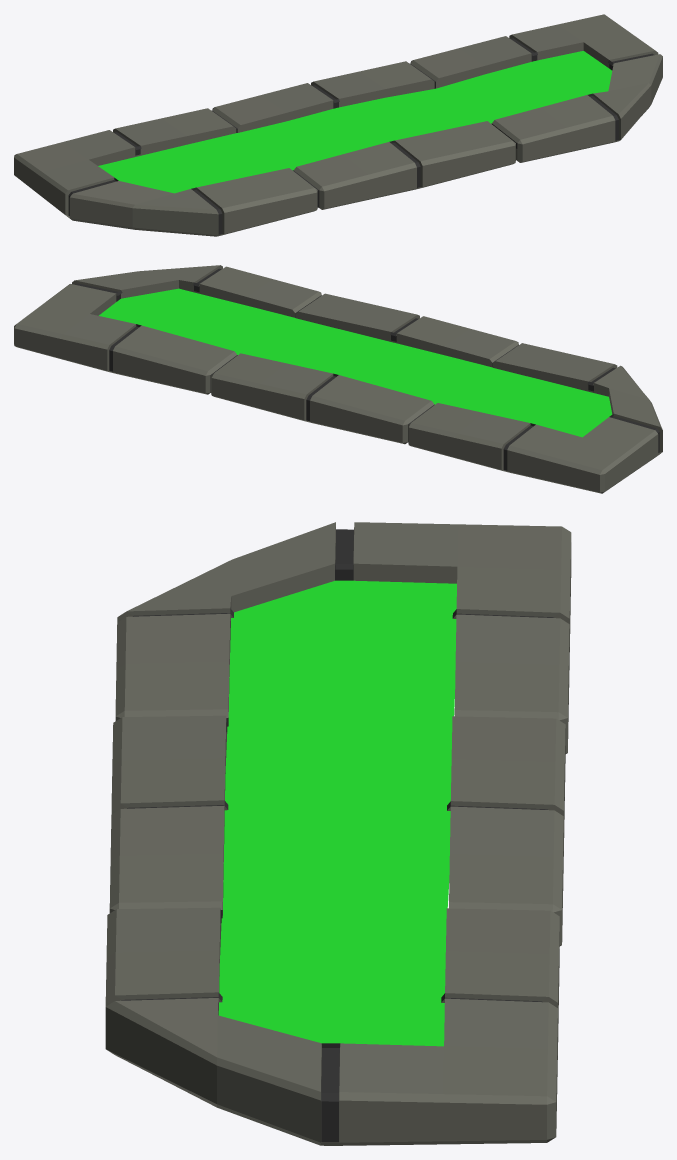
The model's file is maceta2.glb.
3 views of the same model, one above another, from view 1: azimuth 30°, elevation 25°; view 2: azimuth 150°, elevation 25°; view 3: azimuth 270°, elevation 25° (orthographic). The views are drawn at different scales.
Visible parts, largest first — view 1: macetas; view 2: macetas; view 3: macetas.
Part boxes in pixels (x1,y1,x2,y2): macetas: (14, 14, 662, 236); macetas: (14, 265, 662, 493); macetas: (105, 522, 571, 1145).
Bounding box in the file's own units: 22.32 × 1.1 × 7.63.
